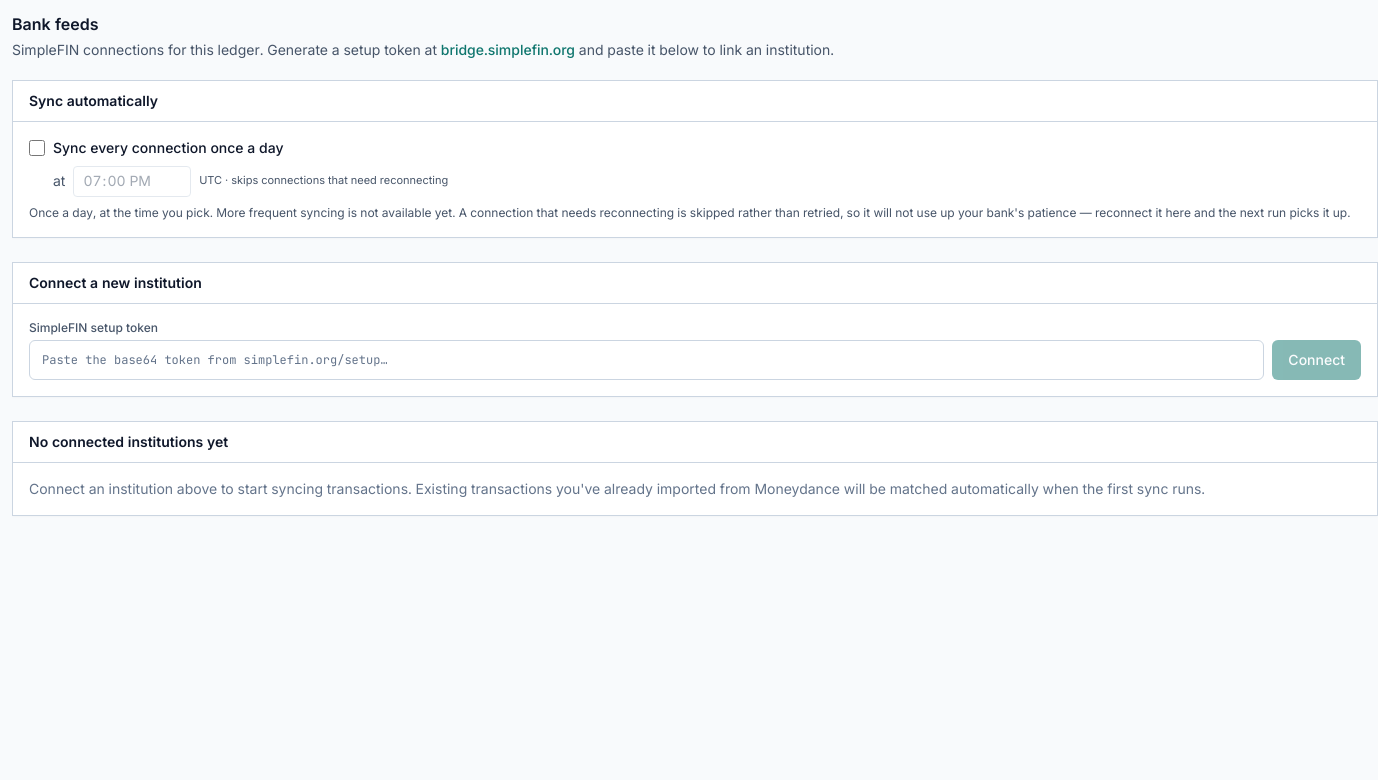
Scenario: FeedConnectionsPanel › surfaces API errors on connect as an inline alert
Type "stale-token" into the field labelled "SimpleFIN setup token" at (647, 360), box x1=29 y1=340 x2=1264 y2=380
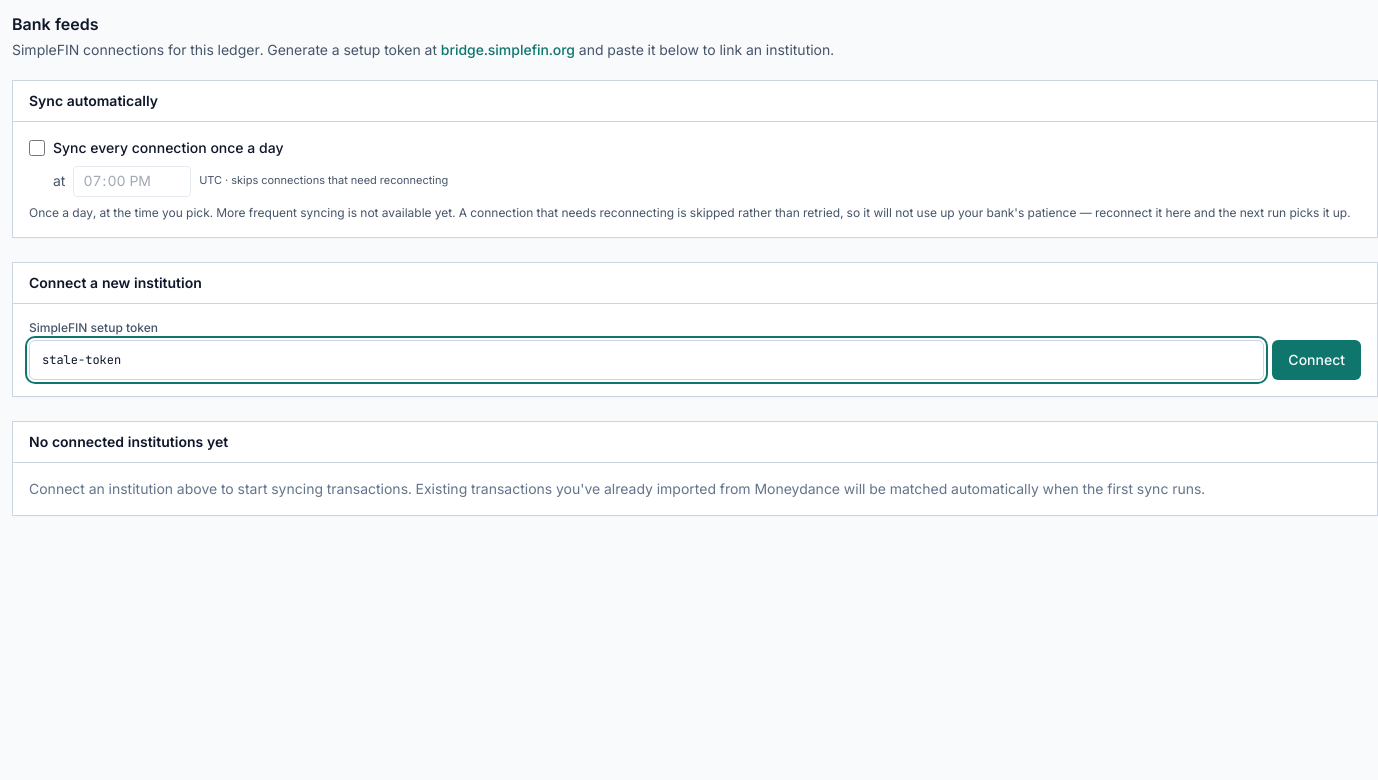
Click the button "Connect" at (1317, 360), box x1=1272 y1=340 x2=1361 y2=380
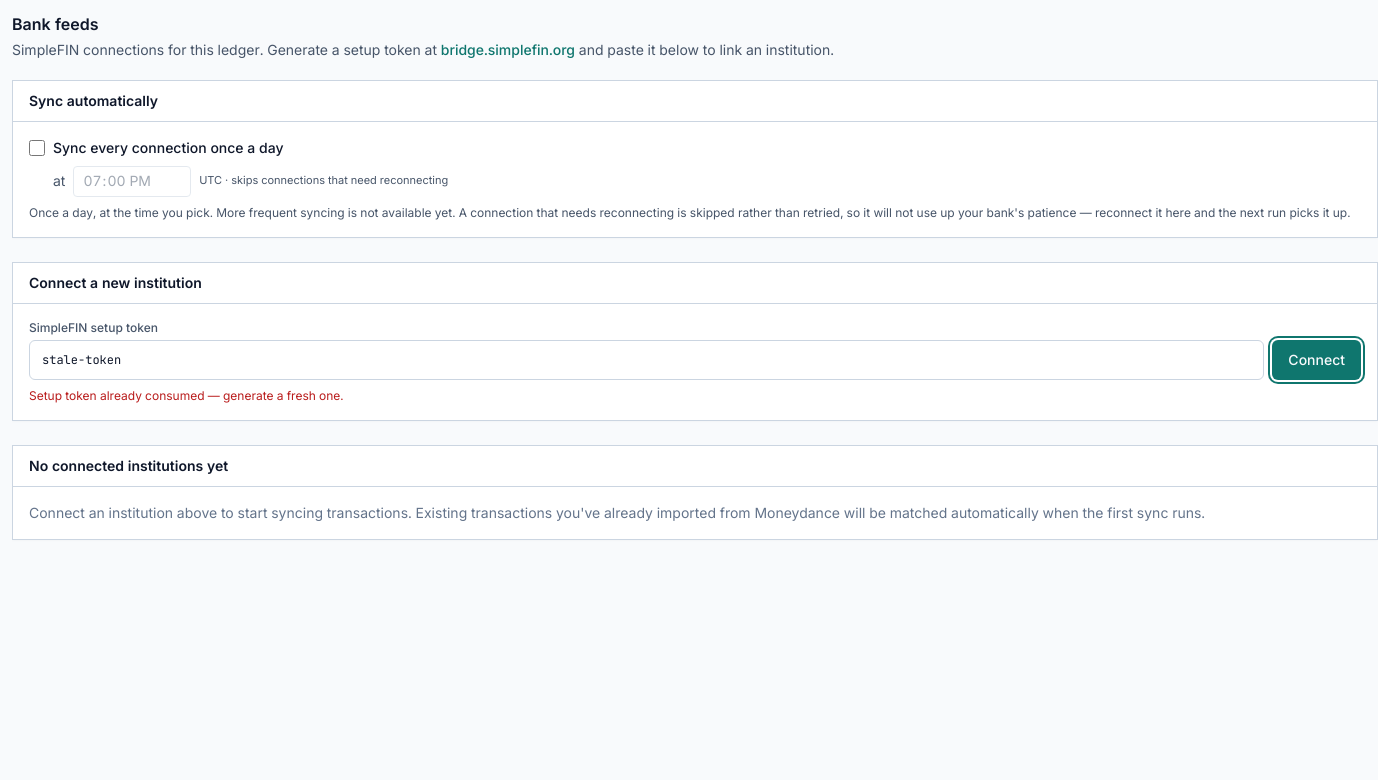
Now the text "Setup token already consumed — generate a fresh one." is shown, box x1=29 y1=388 x2=344 y2=403
